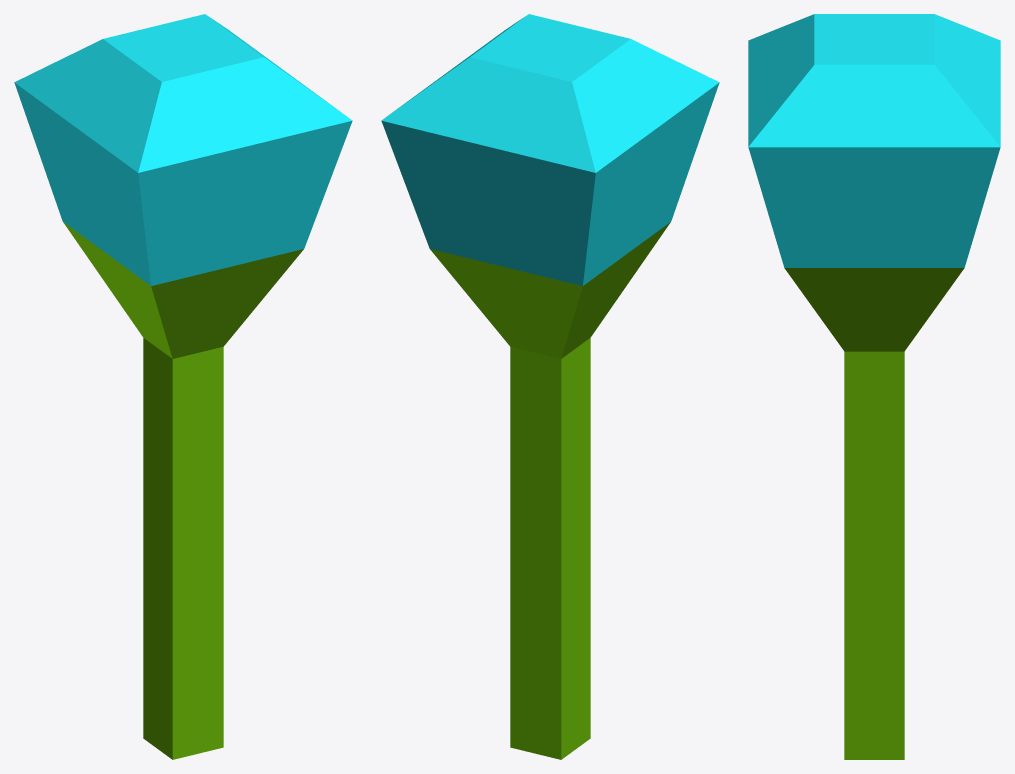
Rendered from Sprout_C.fbx.
The picture shows the model from 3 angles, left to right: view 1: azimuth 30°, elevation 25°; view 2: azimuth 150°, elevation 25°; view 3: azimuth 270°, elevation 25°; orthographic projection.
Visible parts, largest first — view 1: Flower_01_Bud; view 2: Flower_01_Bud; view 3: Flower_01_Bud.
Boxes of the visible parts, x1,y1,x2,y2 form: Flower_01_Bud: (14,14,352,759); Flower_01_Bud: (381,14,719,759); Flower_01_Bud: (748,14,1000,759).
Size of the model in its own units: 5.04 by 15.6 by 5.04.
Materials: 1 (1 with a texture image).
